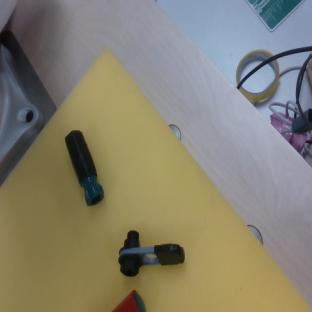part_1_bad: (111, 220, 187, 278)
part_2_bad: (62, 127, 107, 207)
part_2_good: (111, 290, 149, 312)
